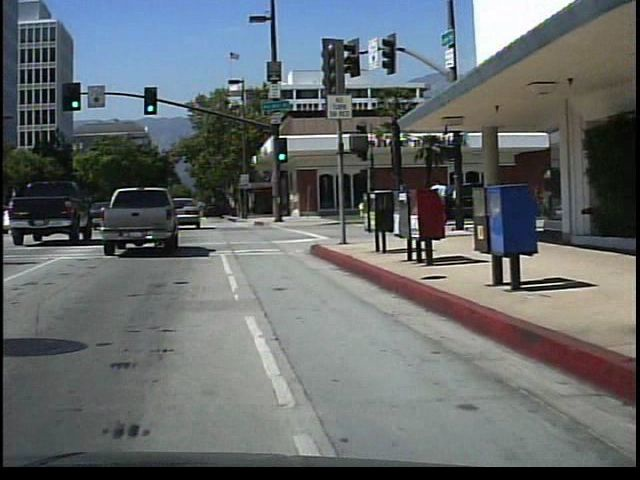person: (433, 175, 456, 237)
